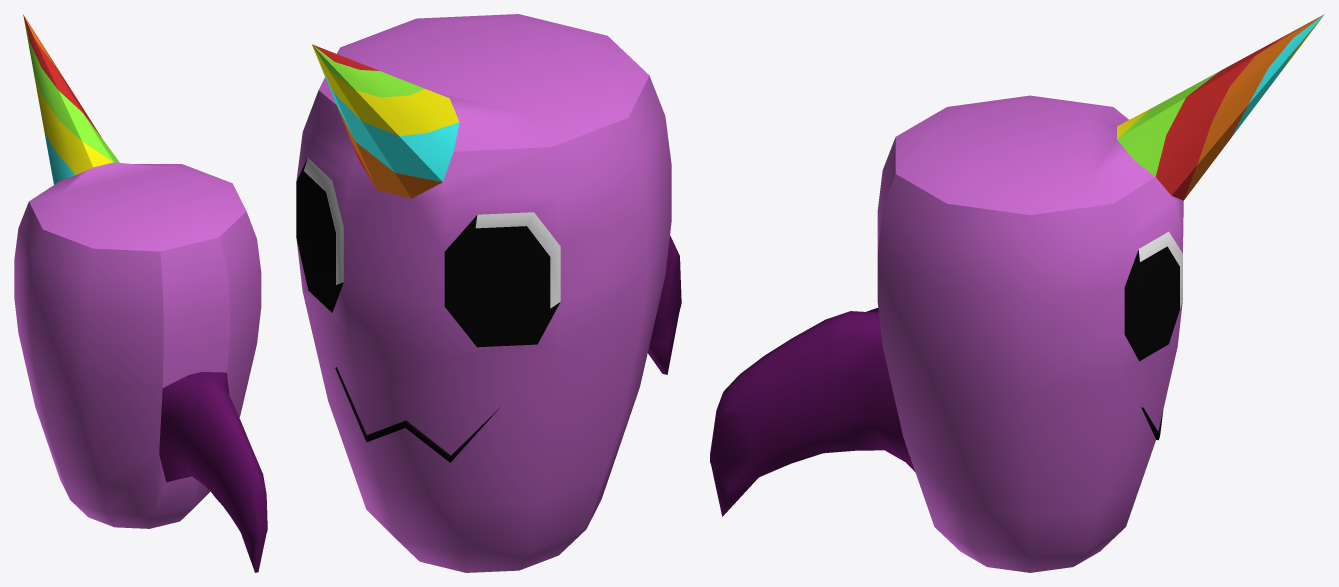
The model's file is carneUnicornio.fbx.
The picture shows the model from 3 angles, left to right: view 1: azimuth 30°, elevation 25°; view 2: azimuth 150°, elevation 25°; view 3: azimuth 270°, elevation 25°; orthographic projection. The views are drawn at different scales.
Parts seen in each view (by area): view 1: Cylinder002; view 2: Cylinder002; view 3: Cylinder002.
Part boxes in pixels (box(x1,y1,x2,y2)): Cylinder002: box(14, 14, 267, 572); Cylinder002: box(296, 14, 681, 572); Cylinder002: box(710, 14, 1324, 572).
Size of the model in its own units: 0.621 by 1.13 by 1.19.
